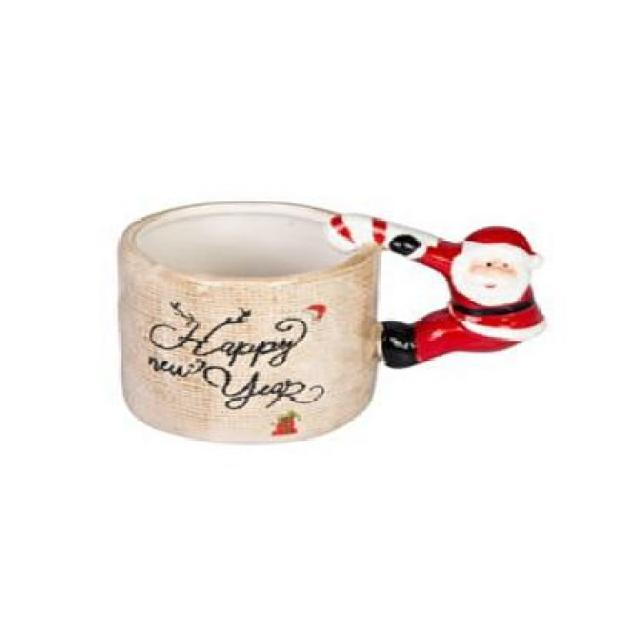taza: (113, 198, 552, 446)
